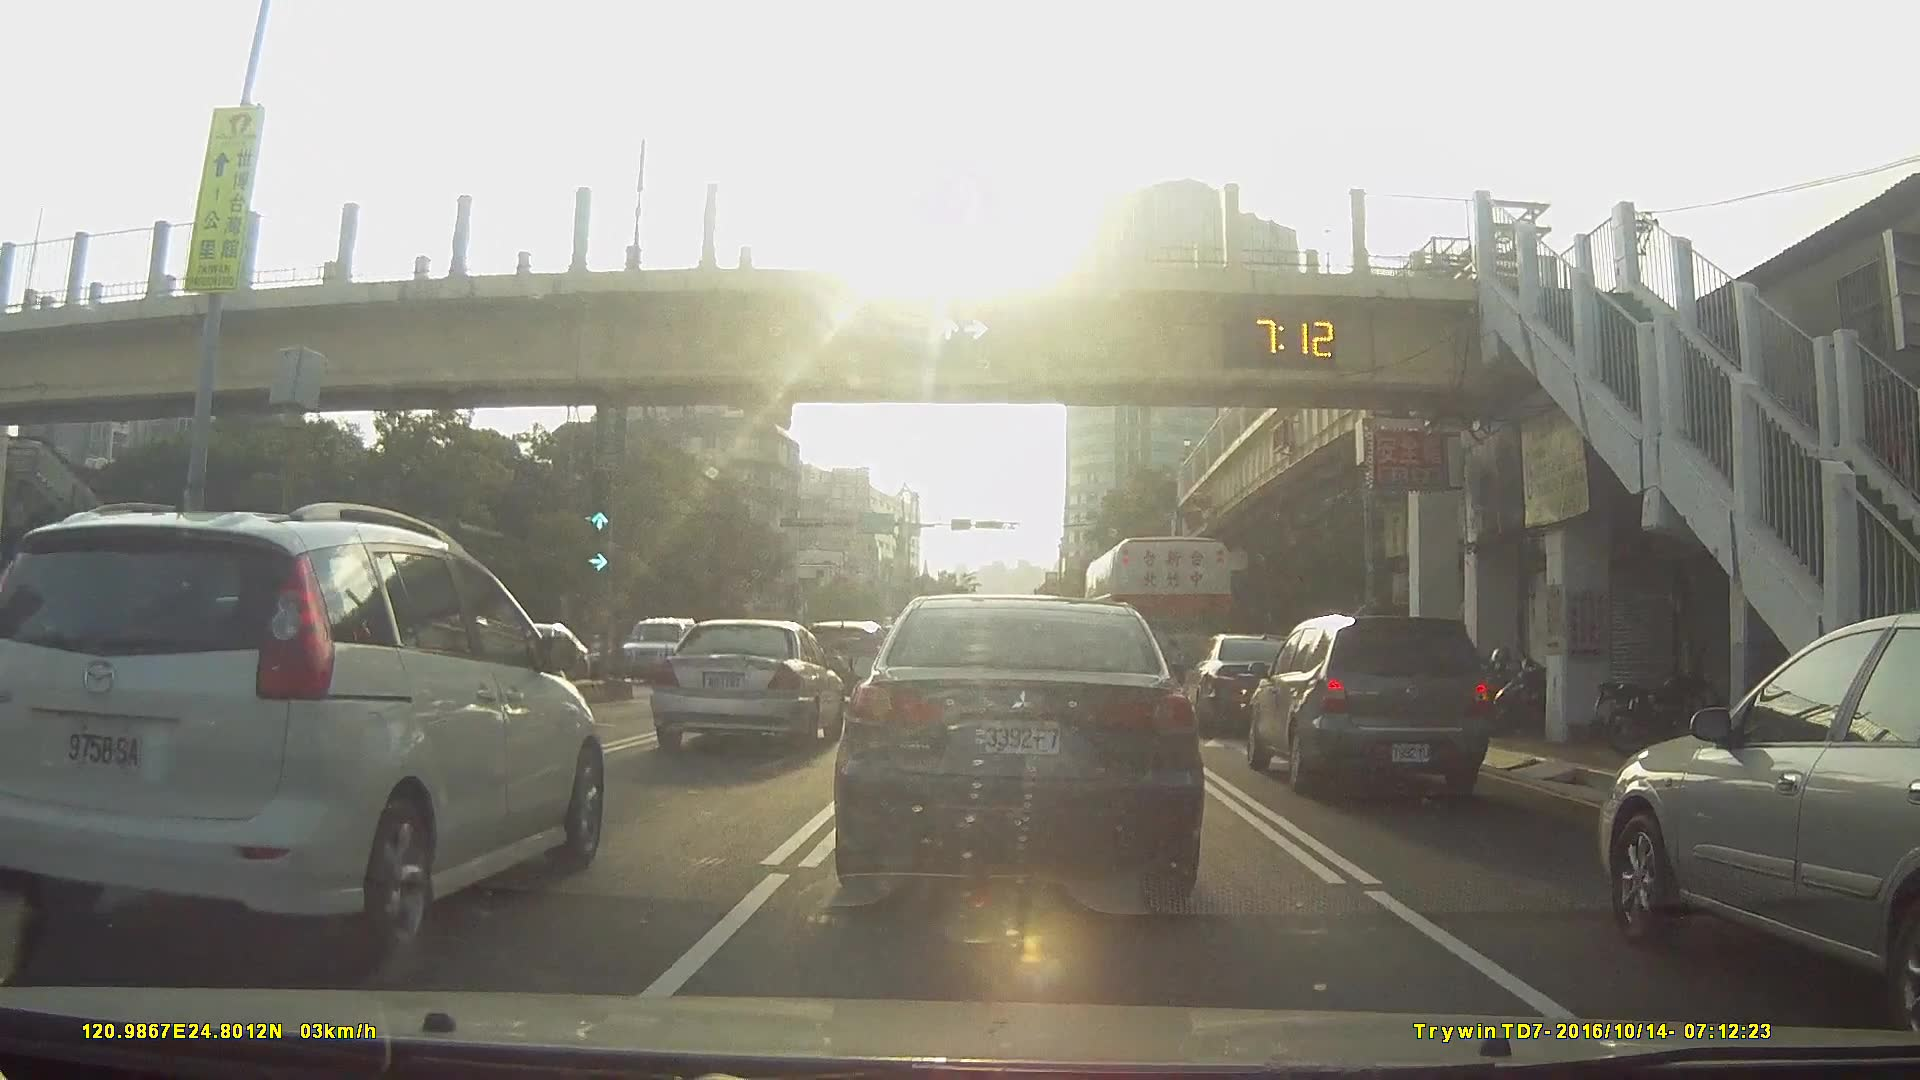vehicle: (0, 500, 608, 948), (1592, 609, 1920, 1030), (829, 587, 1200, 918), (1238, 611, 1487, 796), (651, 616, 847, 754), (1182, 630, 1305, 732), (773, 609, 866, 694), (611, 613, 712, 680)
